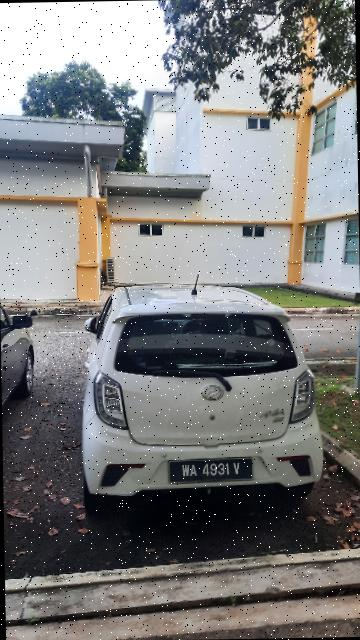License_Plate: (164, 456, 256, 487)
car: (77, 272, 327, 514)
